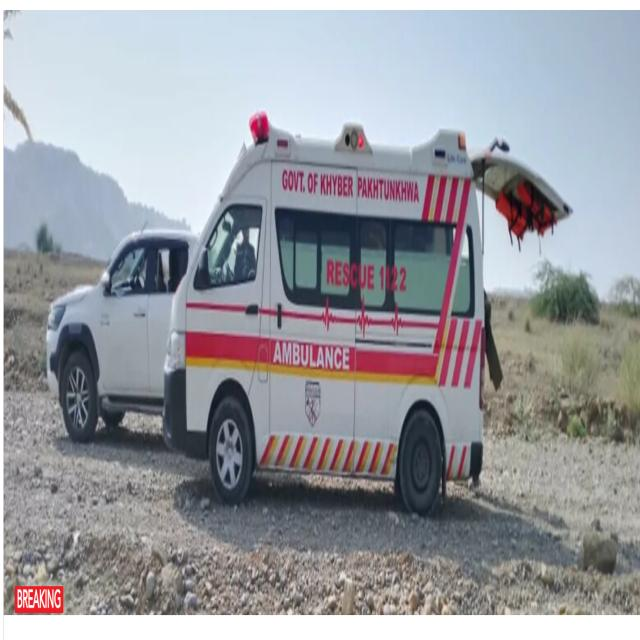ambulance: (184, 136, 488, 517)
